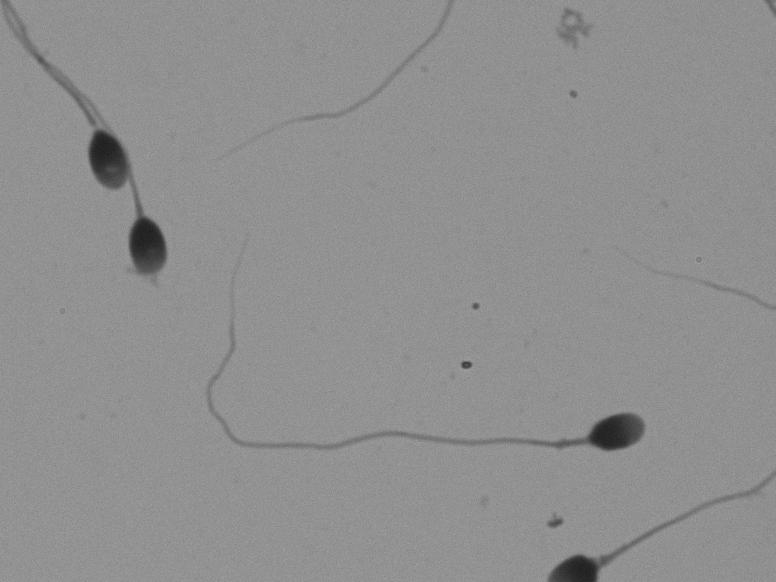Normal: (182, 238, 652, 510), (23, 12, 184, 363)
